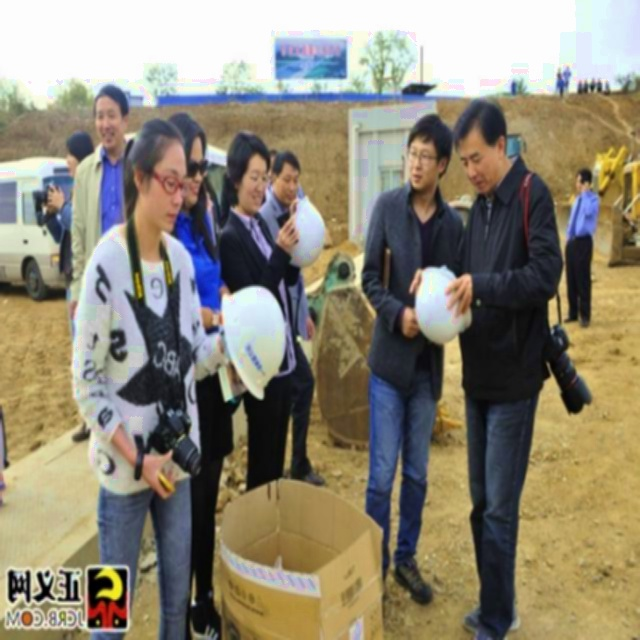Con_Casco: (221, 283, 286, 401), (413, 263, 475, 340)
Sin_Casco_Mascarrilla: (129, 115, 183, 232), (455, 98, 505, 192), (407, 114, 452, 187), (95, 84, 129, 145)
